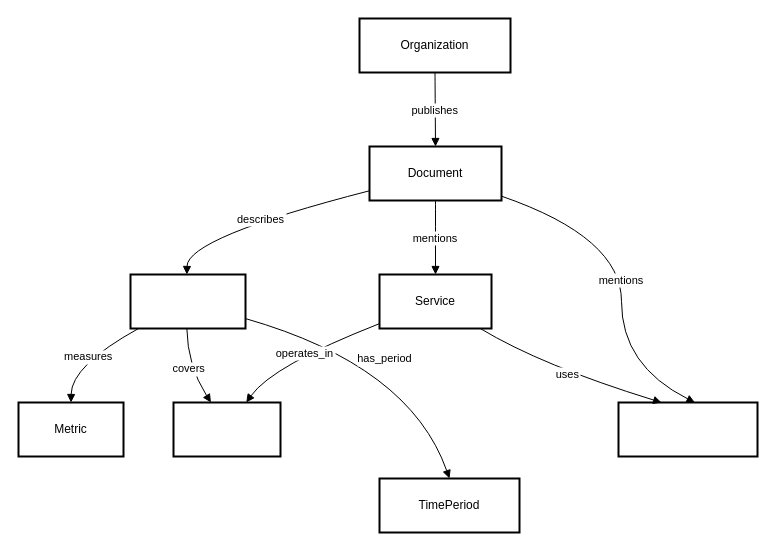
Image size: 775x550. Some labels were removed from this diagram. The shapes that lost their labels are listed below. From the top down, each one's box as (x1, y1, x2, y2) in pixels, then its label:
(129, 273, 246, 329): Dataset
(172, 401, 281, 457): Region
(617, 401, 758, 457): Technology
